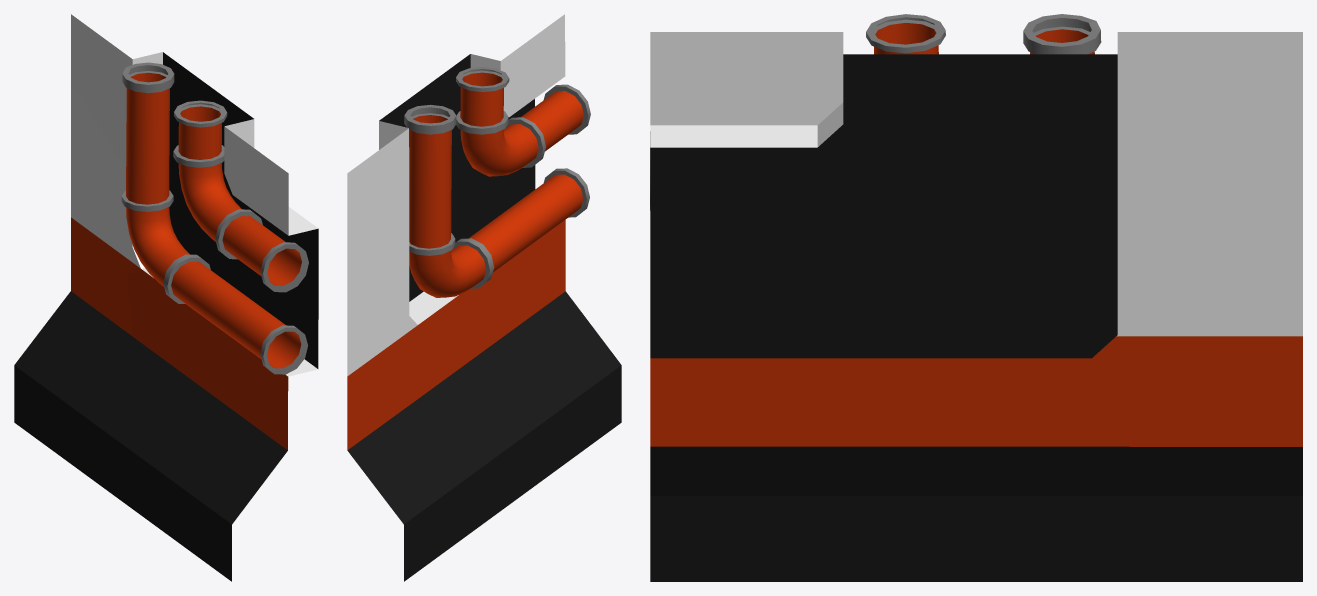
File: S_assete_basement_wall_7.fbx
3 views of the same model, side by side, from view 1: azimuth 30°, elevation 25°; view 2: azimuth 150°, elevation 25°; view 3: azimuth 270°, elevation 25° (orthographic). The views are drawn at different scales.
Visible parts, largest first — view 1: S_assete_basement_wall_7; view 2: S_assete_basement_wall_7; view 3: S_assete_basement_wall_7.
Boxes of the visible parts, x1,y1,x2,y2 form: S_assete_basement_wall_7: (14, 14, 318, 581); S_assete_basement_wall_7: (347, 14, 621, 581); S_assete_basement_wall_7: (650, 14, 1302, 581).
Bounding box in the file's own units: 46 × 200 × 200.
